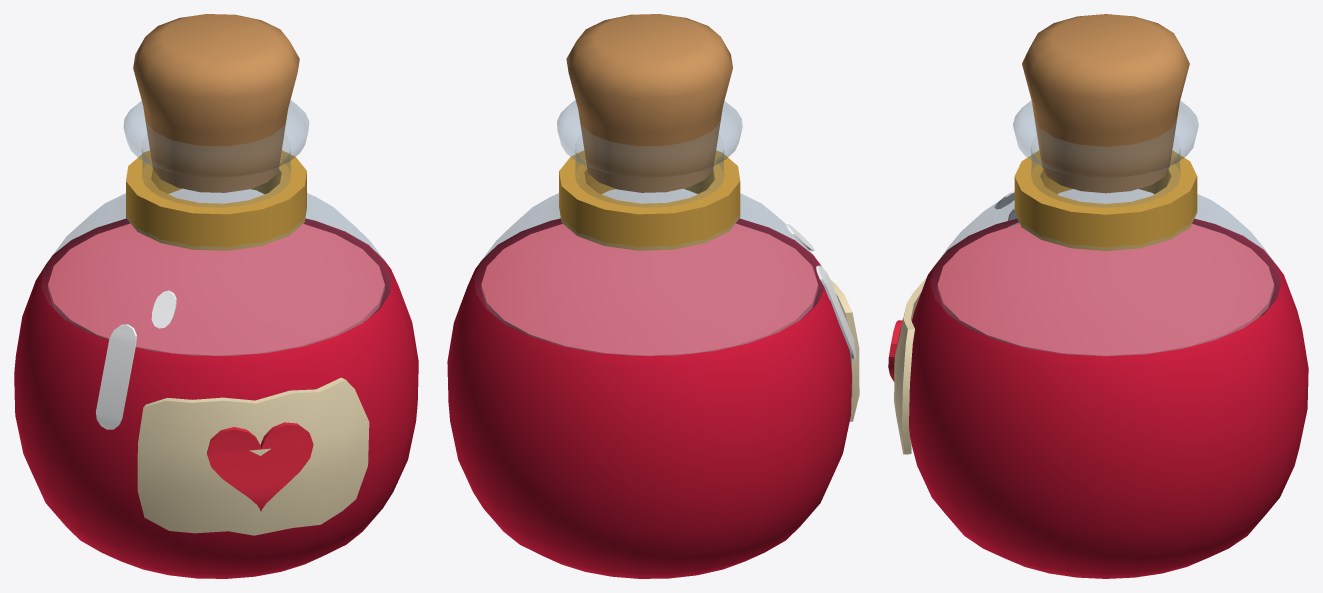
File: item_health_tonic.glb
3 views of the same model, side by side, from view 1: azimuth 30°, elevation 25°; view 2: azimuth 150°, elevation 25°; view 3: azimuth 270°, elevation 25° (orthographic).
Parts seen in each view (by area): view 1: HealthTonic; view 2: HealthTonic; view 3: HealthTonic.
Boxes of the visible parts, <box> form: HealthTonic: <box>14,14,418,578</box>; HealthTonic: <box>447,14,859,578</box>; HealthTonic: <box>888,14,1308,578</box>.
Size of the model in its own units: 0.222 by 0.301 by 0.2301.
